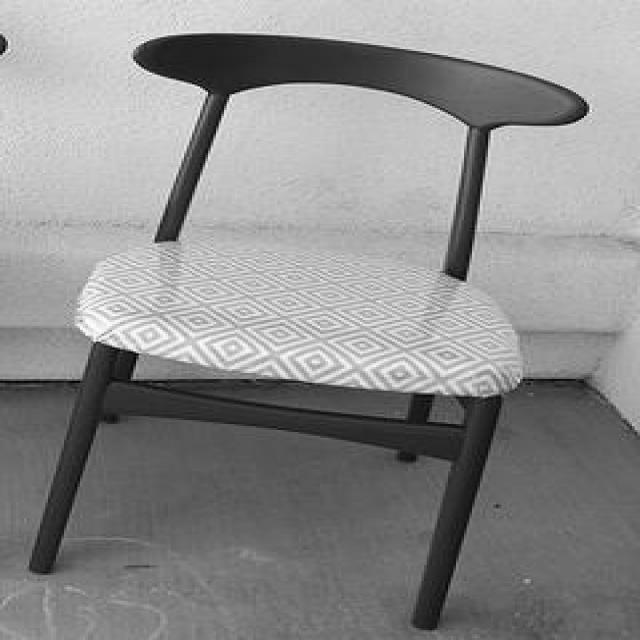chair: (26, 32, 592, 628)
